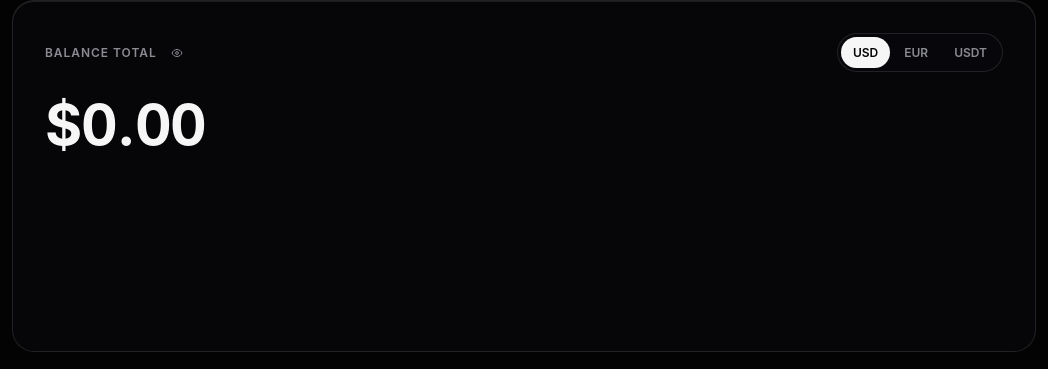
BalanceCard › toggle de ocultar balance › tocar el ojo oculta el balance y guarda la preferencia
What coordinates should you click on to do the following:
click the button with class "eye-button"
I would click on:
 (177, 53)
Its box is [165, 41, 189, 65].
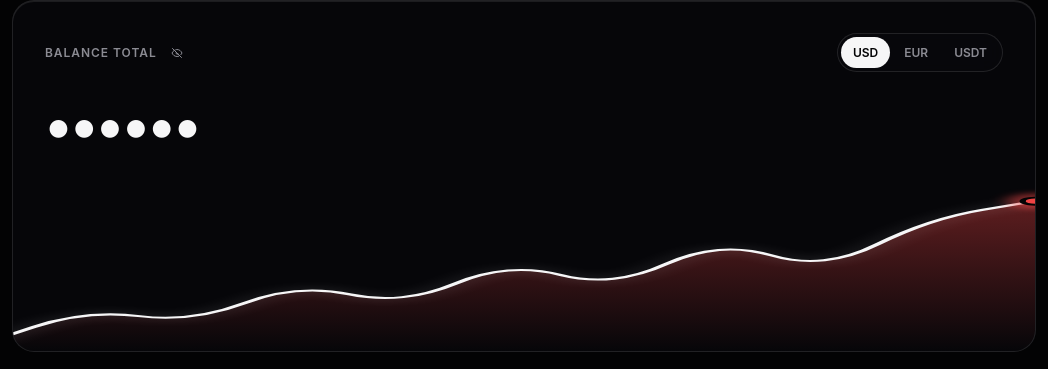
Check: the text "••••••" is shown, box [45, 90, 200, 159]
